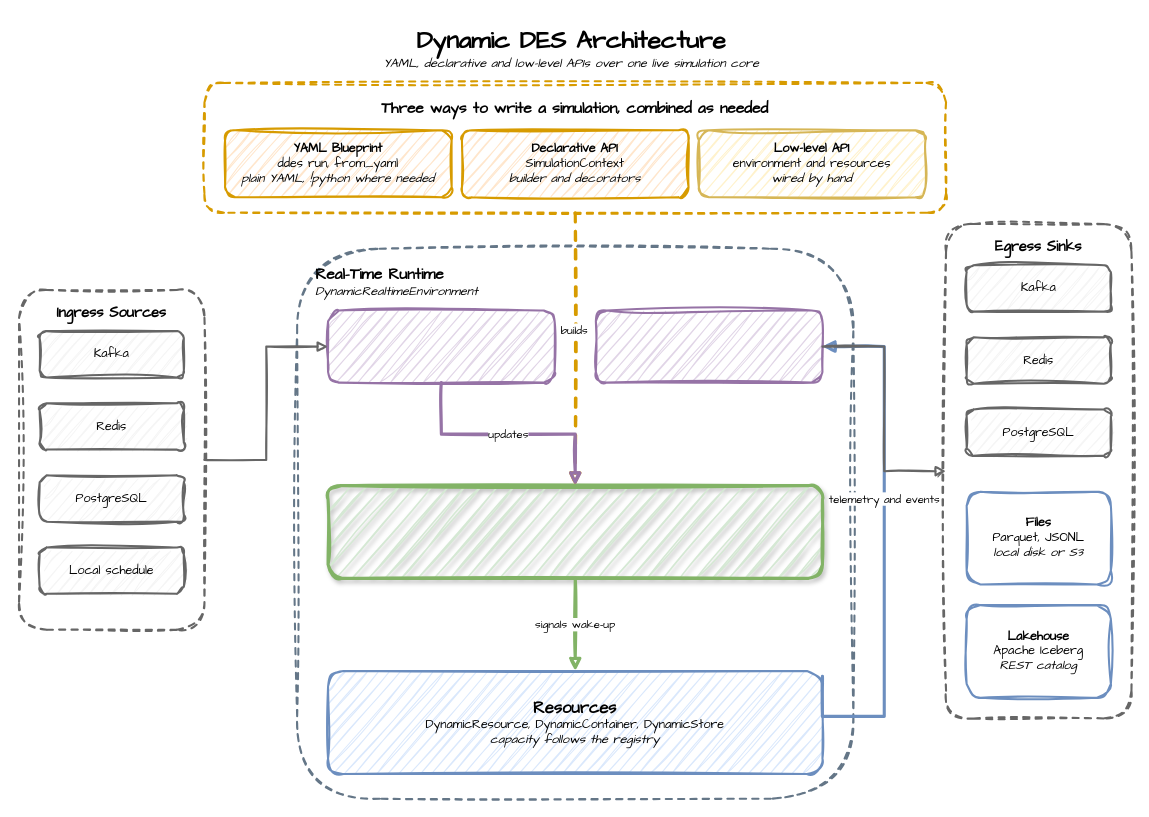
The diagram is 1149 pixels wide and 817 high, and some of its shapes have lost their labels. Each missing label, with the centre of its shape:
"Egress Connectors batched records, on their own thread" belongs at point 708,346.
"Ingress Connectors background I/O threads" belongs at point 441,346.
"Registry every live parameter, by path" belongs at point 576,533.
